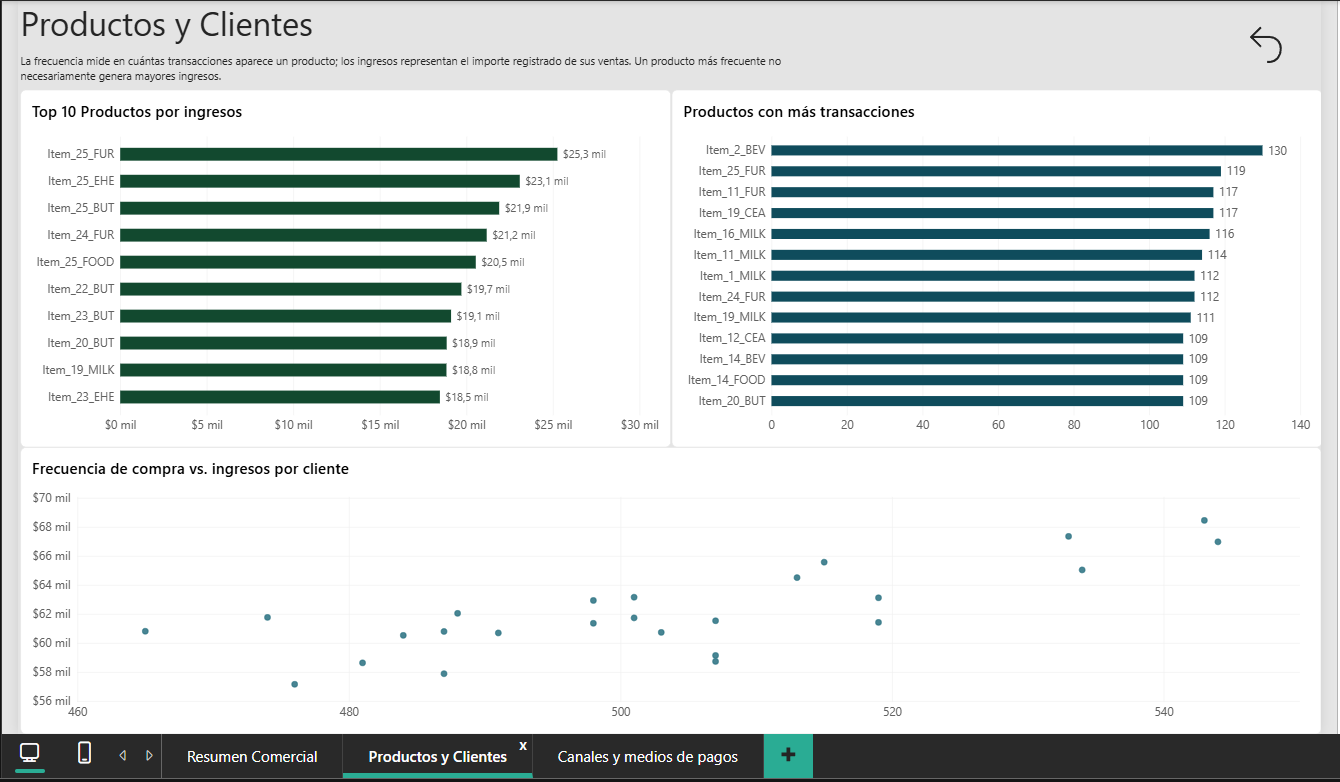

What the dashboard file says about the page in this screenshot:
{"tool":"powerbi","page":{"name":"Productos y Clientes","canvas":[1920,1080],"ordinal":1},"visuals":[{"type":"clusteredBarChart","title":"Top 10 Productos por ingresos","fields":{"Category":["RetailSales_Validada.Item"],"Y":["RetailSales_Validada.Ingresos Registrados"]},"box":[4.3,130,957.6,526.5],"z":0},{"type":"clusteredBarChart","title":"Productos con más transacciones","fields":{"Category":["RetailSales_Validada.Item"],"Y":["RetailSales_Validada.Total Transacciones"]},"box":[962,130,957.6,526.5],"z":1000},{"type":"scatterChart","title":"Frecuencia de compra vs. ingresos por cliente","fields":{"Category":["RetailSales_Validada.Customer_ID"],"X":["RetailSales_Validada.Total Transacciones"],"Y":["RetailSales_Validada.Ingresos Registrados"]},"box":[4.3,656.5,1915.3,422.5],"z":2000},{"type":"textbox","box":[4.3,0,478.8,78],"z":3000},{"type":"textbox","box":[4.3,78,1235,52],"z":4000},{"type":"actionButton","box":[1759.3,0,156,128],"z":4001}]}

Visuals, with their boxes on the page's 1920x1080 design canvas (x1, y1, x2, y2). These are canvas units, not pixel positions in the 1340x782 screenshot, which may show the page scaled, cropped or inside an application window:
"Top 10 Productos por ingresos" clusteredBarChart: detection(4, 130, 962, 656)
"Productos con más transacciones" clusteredBarChart: detection(962, 130, 1920, 656)
"Frecuencia de compra vs. ingresos por cliente" scatterChart: detection(4, 656, 1920, 1079)
textbox: detection(4, 0, 483, 78)
textbox: detection(4, 78, 1239, 130)
actionButton: detection(1759, 0, 1915, 128)
